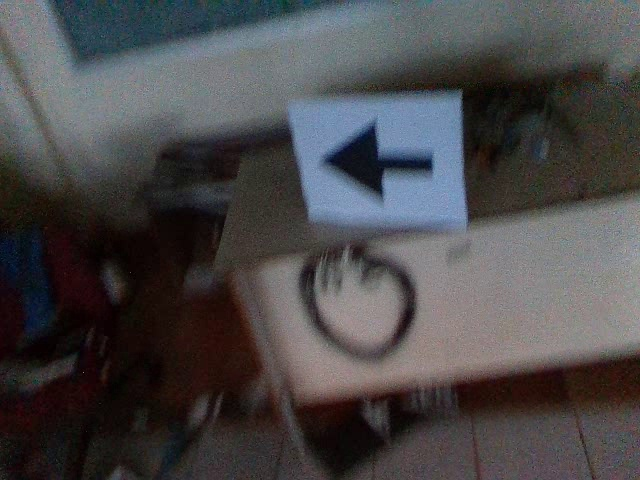Left: (315, 116, 441, 203)
